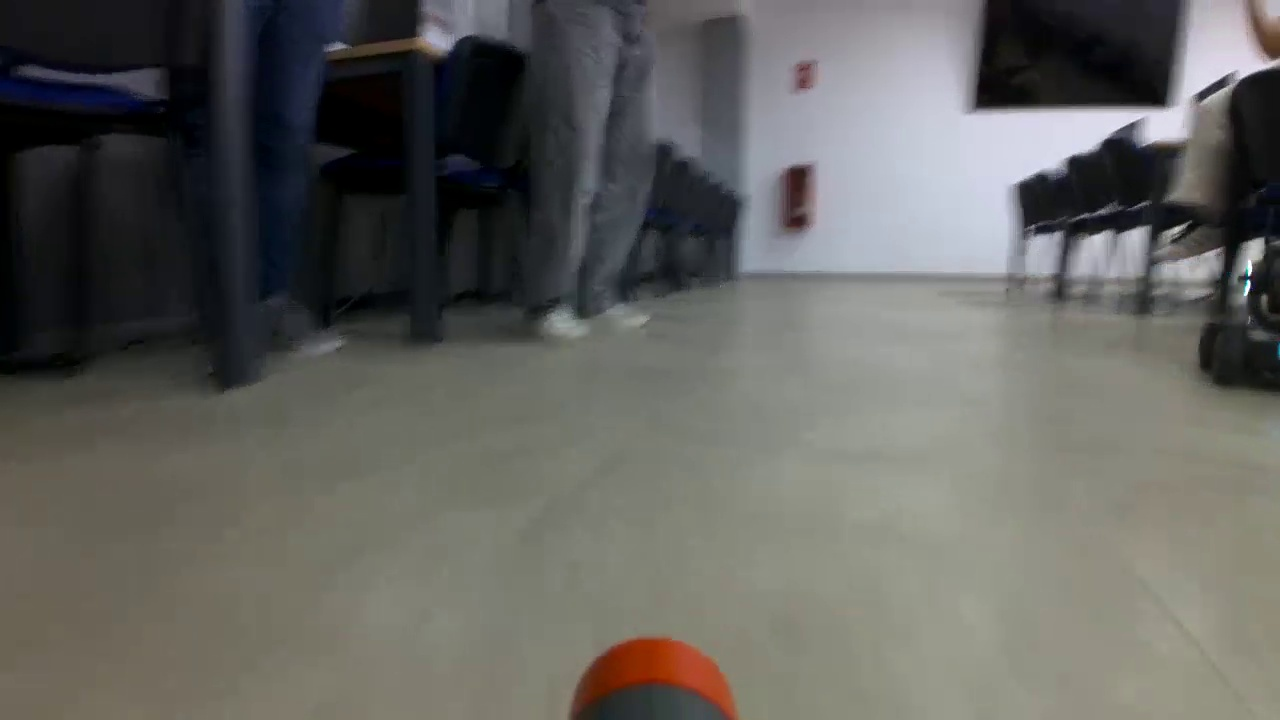robot: (1198, 270, 1280, 390)
